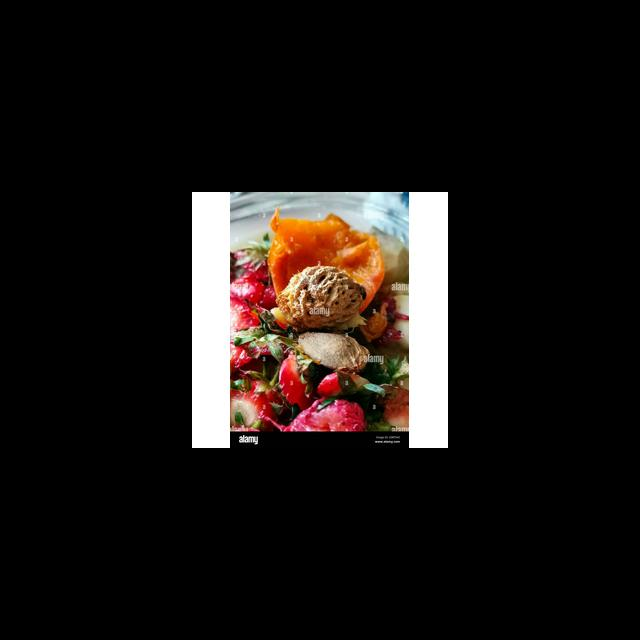food_waste: (232, 219, 408, 432)
